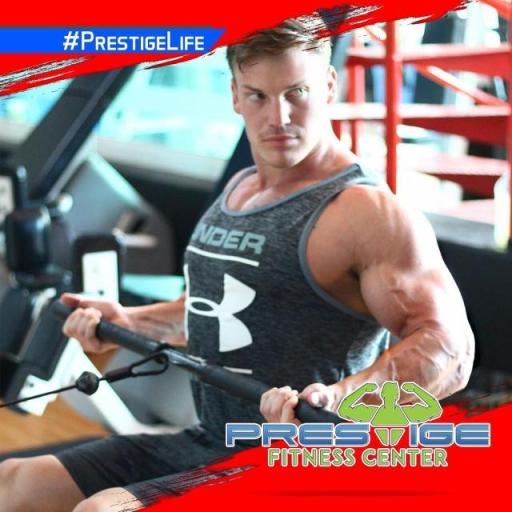Under Armour: (186, 269, 260, 352)
